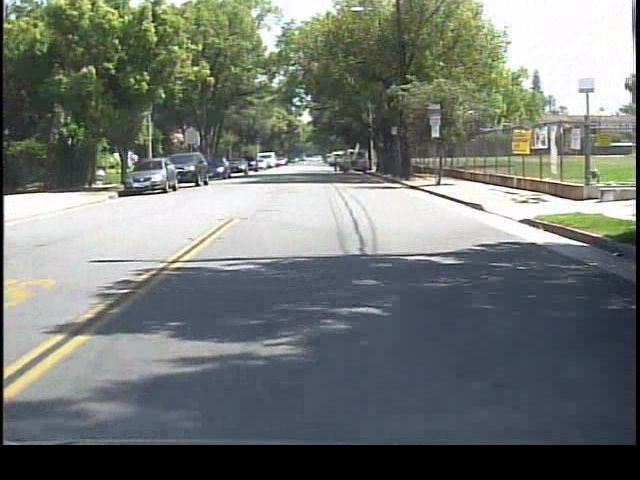person: (327, 148, 343, 173)
